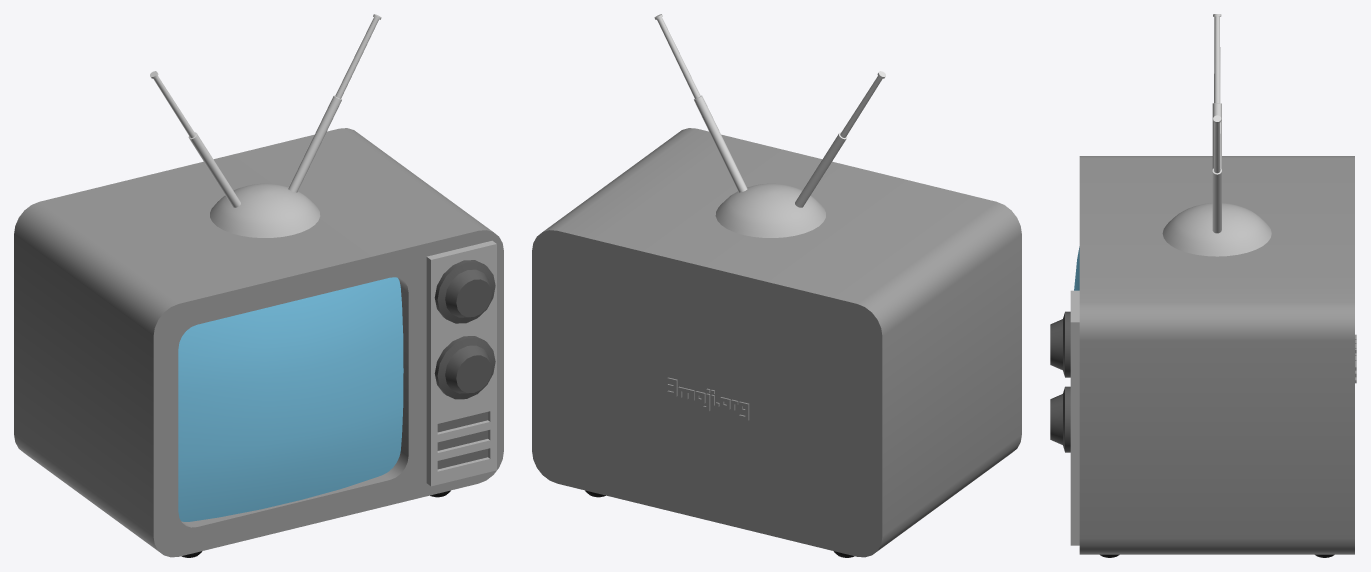
Rendered from television.glb.
3 renders of one model, left to right at view 1: azimuth 30°, elevation 25°; view 2: azimuth 150°, elevation 25°; view 3: azimuth 270°, elevation 25°, orthographic.
Visible parts, largest first — view 1: Cube.938; view 2: Cube.938; view 3: Cube.938.
Boxes of the visible parts, x1=… form: Cube.938: x1=14, y1=14, x2=503, y2=557; Cube.938: x1=532, y1=14, x2=1021, y2=557; Cube.938: x1=1050, y1=14, x2=1356, y2=557.
Size of the model in its own units: 1.84 by 2.22 by 1.41.
1 material, 1 textured.
